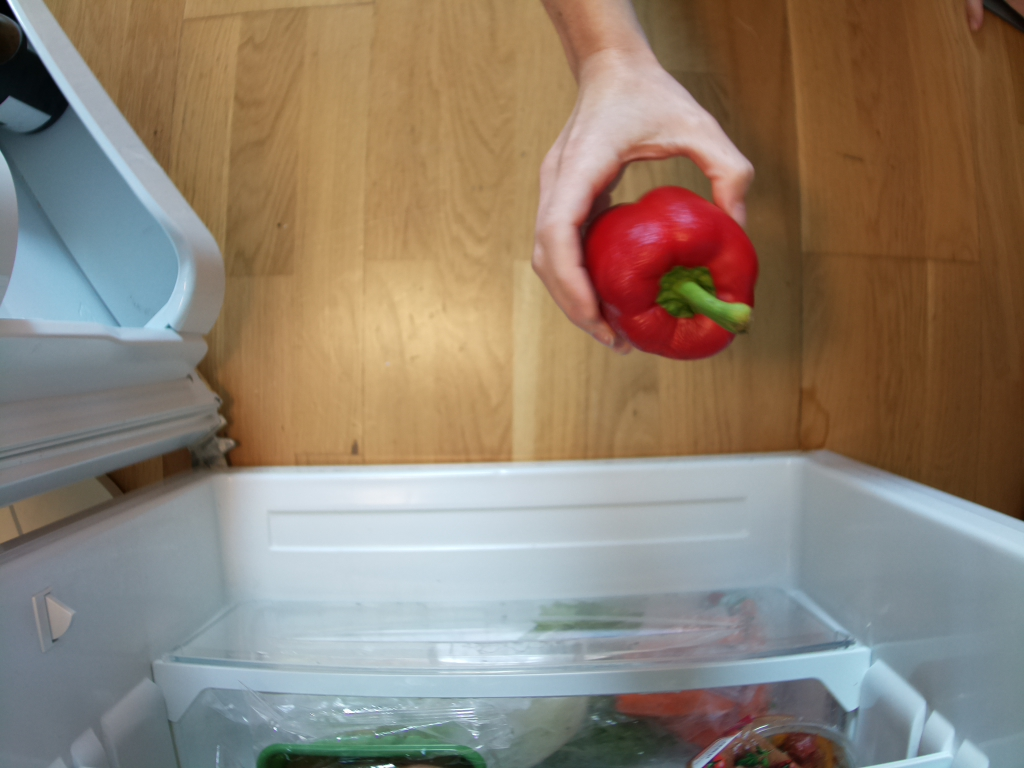pepper-bad: (578, 181, 766, 365)
